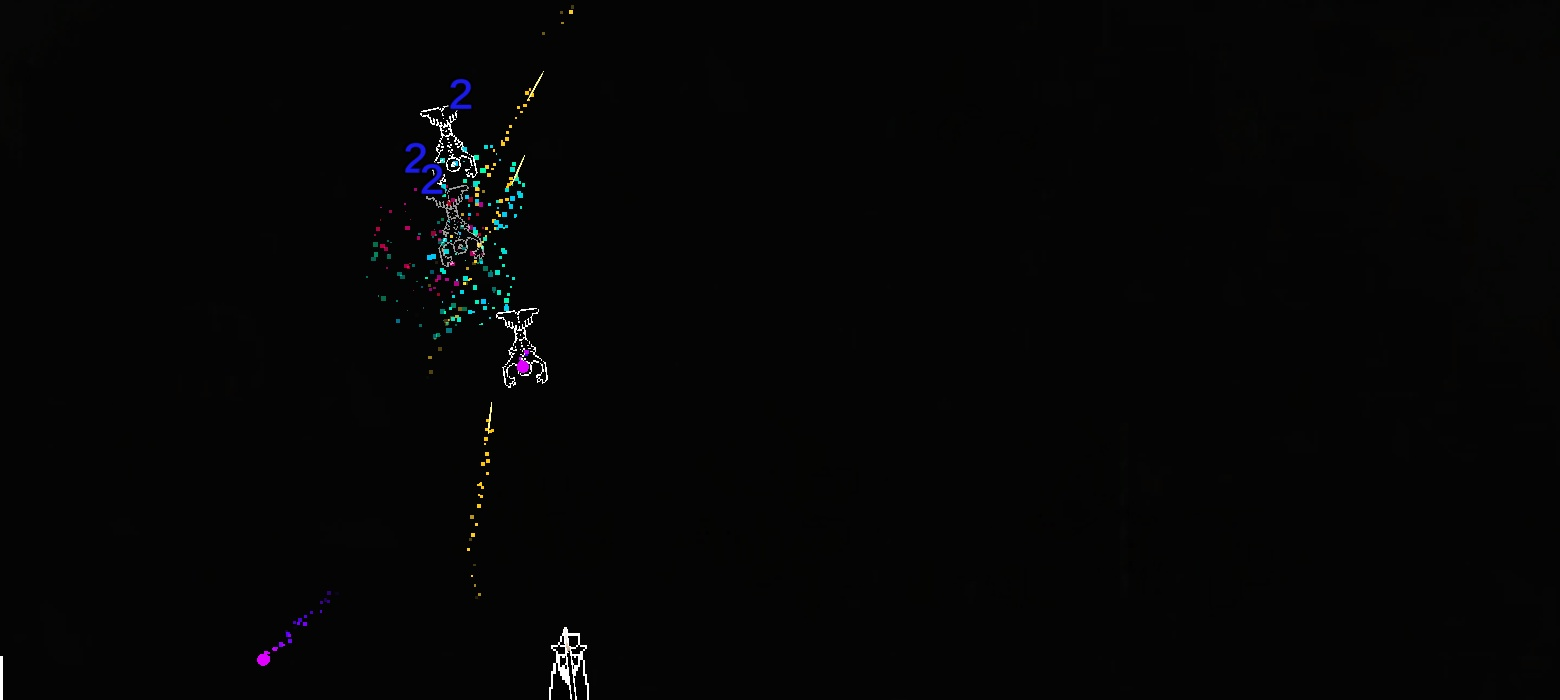enemy: (425, 185, 486, 267), (420, 103, 478, 186), (495, 307, 549, 388)
